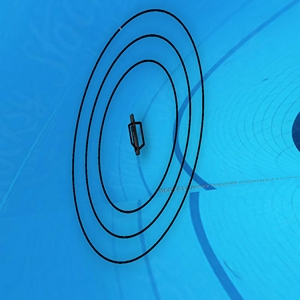circle: (64, 6, 213, 268)
submarine: (125, 115, 147, 156)
